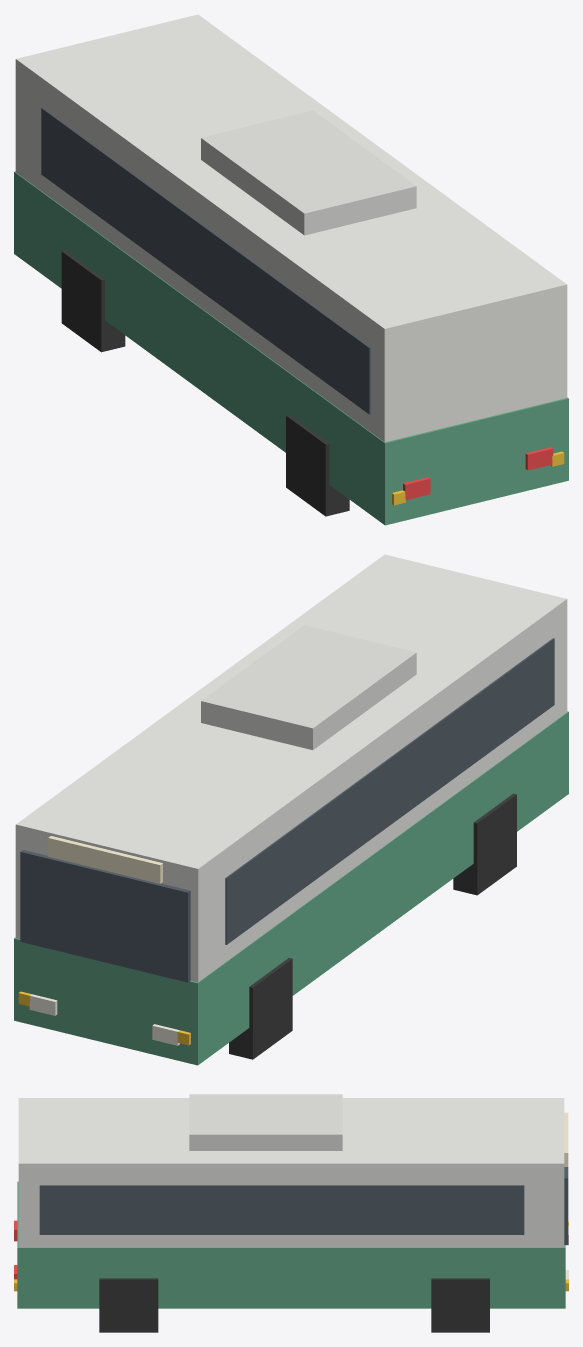
File: SM_Camion_Urbano.fbx
3 views of the same model, one above another, from view 1: azimuth 30°, elevation 25°; view 2: azimuth 150°, elevation 25°; view 3: azimuth 270°, elevation 25° (orthographic). The views are drawn at different scales.
Parts seen in each view (by area): view 1: SM_Camion_Urbano; view 2: SM_Camion_Urbano; view 3: SM_Camion_Urbano.
Boxes of the visible parts, x1,y1,x2,y2 form: SM_Camion_Urbano: (14,14,568,525); SM_Camion_Urbano: (14,554,568,1065); SM_Camion_Urbano: (14,1094,568,1332).
Bounding box in the file's own units: 2.56 × 3.18 × 8.7.
